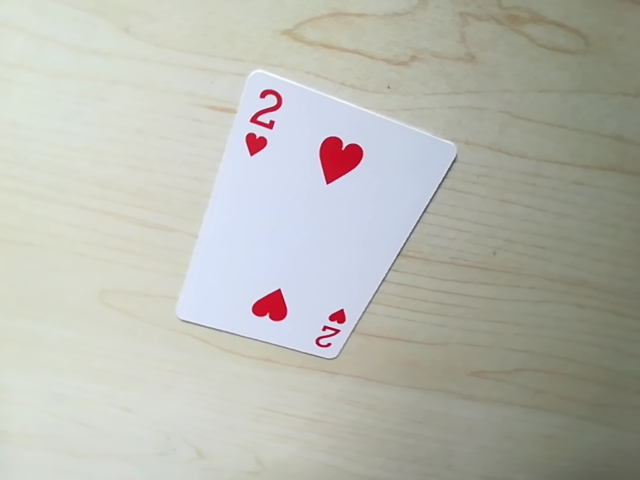hx 2: (240, 73, 288, 160), (312, 307, 353, 356)
